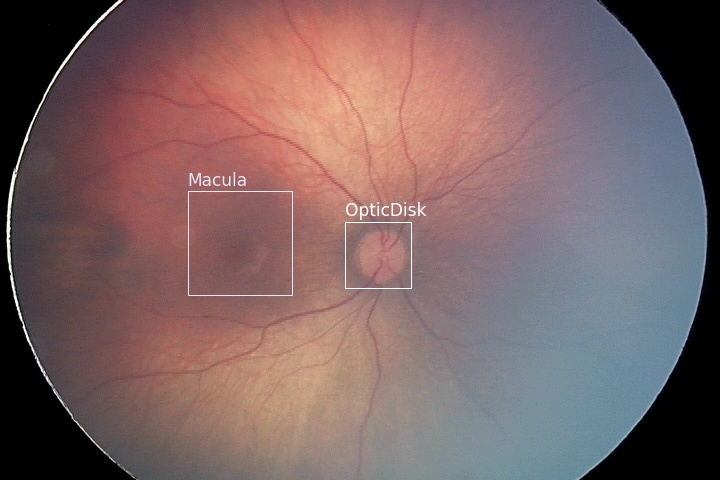Macula: (187, 190, 291, 294)
OpticDisk: (344, 221, 410, 287)
